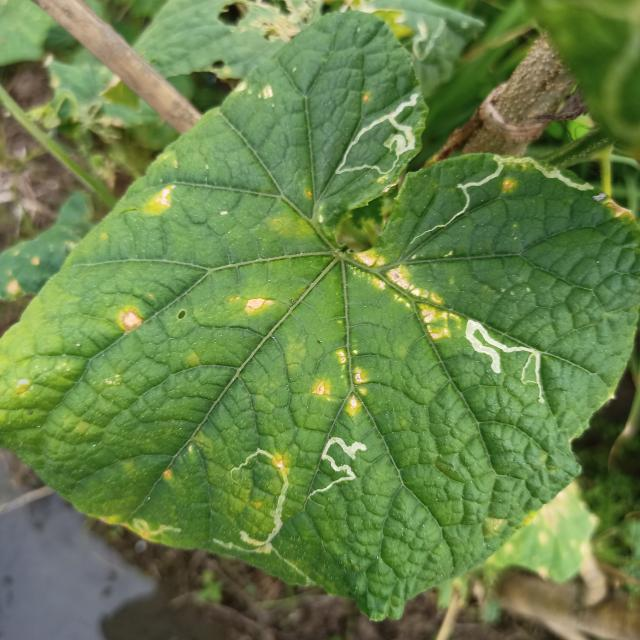disease_cucumber: (347, 246, 460, 342), (314, 346, 366, 416), (144, 175, 180, 217), (236, 78, 276, 103), (118, 307, 146, 331), (246, 296, 277, 316), (499, 178, 518, 196)
